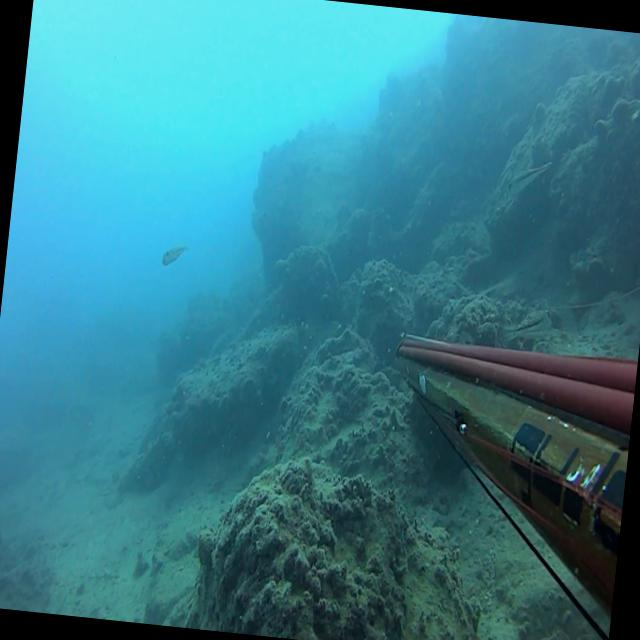Balon Baligi: (497, 304, 551, 346), (506, 156, 552, 196), (160, 242, 188, 266)
